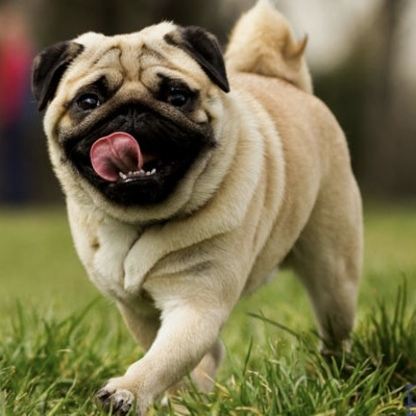Pug: (23, 2, 375, 416)
